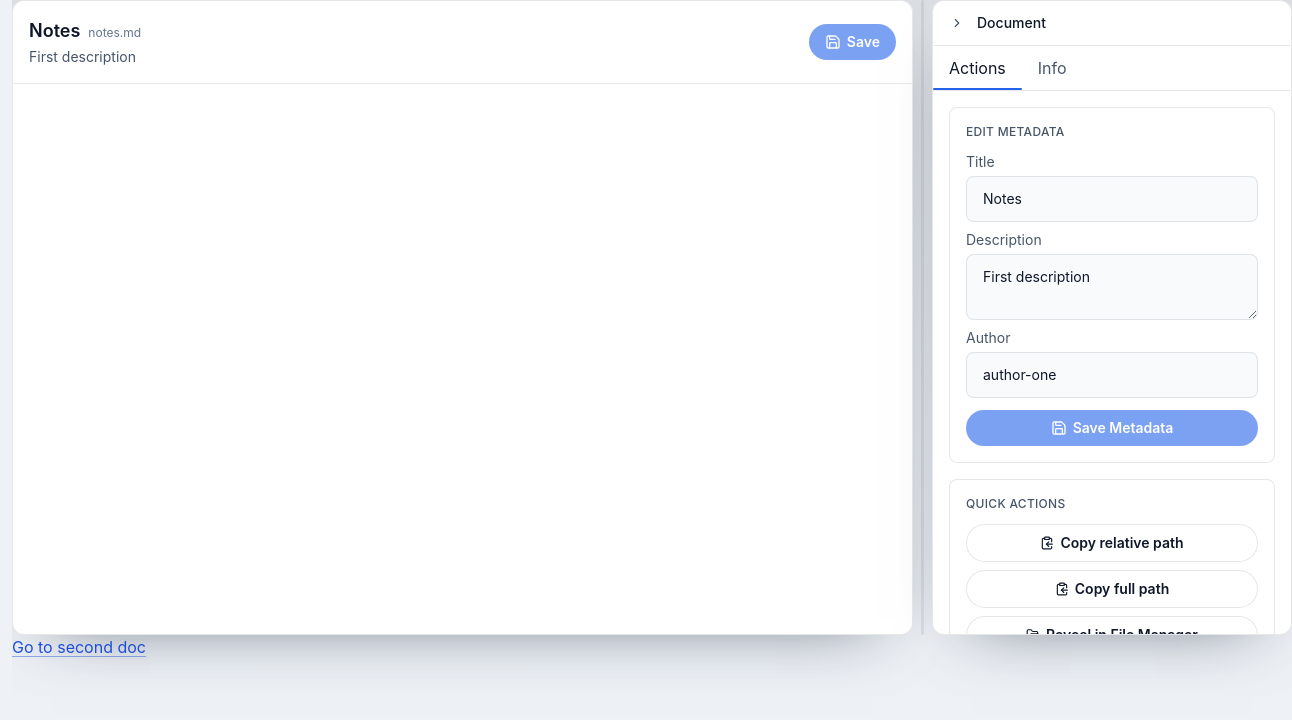
Test: DocumentsPage › resets the Actions tab fields when switching to a different document
Expected: the field showing "Notes" is shown, [966,176,1258,222]
Expected: the text box showing "First description" is shown, [966,254,1258,320]
Click the link "Go to second doc": (79, 647) [12,637,146,657]
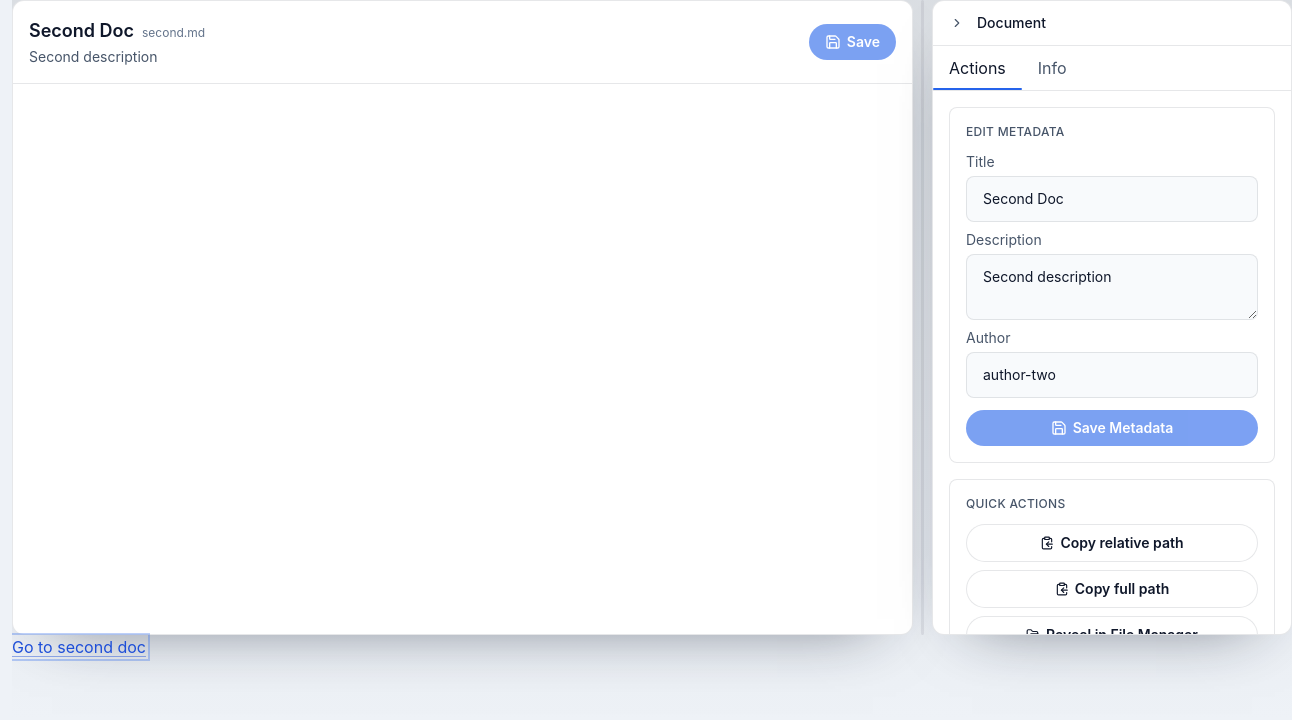
Now the field showing "Second Doc" is shown, box [966,176,1258,222]
Now the text box showing "Second description" is shown, box [966,254,1258,320]
Now the field showing "author-two" is shown, box [966,352,1258,398]
